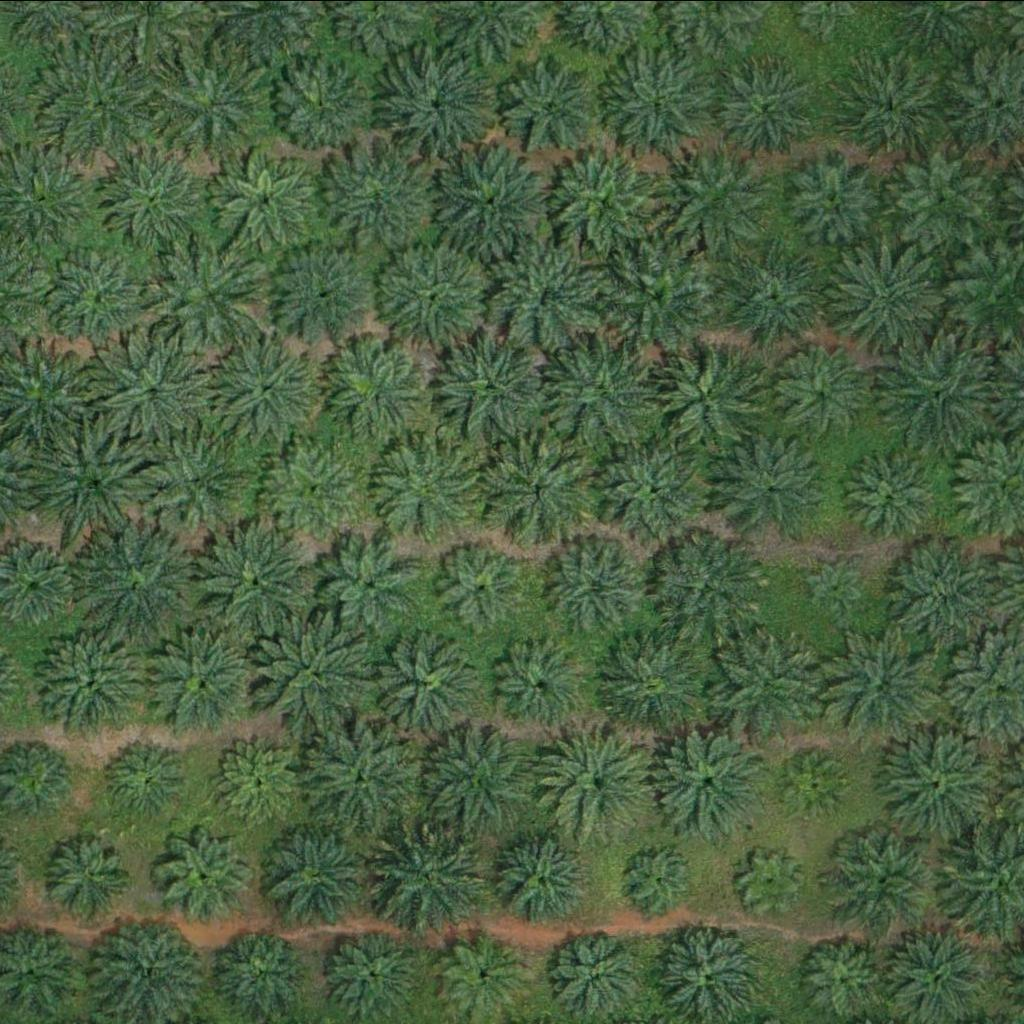Kelapa_Sawit: (261, 815, 375, 928), (374, 823, 488, 936), (876, 335, 990, 448), (720, 429, 834, 542), (483, 817, 596, 930), (545, 725, 658, 838), (34, 626, 147, 739), (150, 625, 263, 738), (83, 522, 196, 635), (201, 524, 314, 637), (373, 428, 486, 541), (482, 436, 595, 549), (45, 240, 158, 353), (152, 236, 265, 349), (266, 239, 379, 352), (320, 136, 433, 249), (430, 144, 543, 257), (605, 43, 718, 156), (551, 142, 664, 255), (550, 331, 663, 444), (649, 340, 762, 453), (601, 431, 714, 544), (822, 632, 935, 745), (656, 723, 769, 836), (882, 726, 995, 839), (306, 718, 420, 830), (418, 721, 532, 833), (486, 624, 600, 736), (92, 142, 206, 254), (44, 47, 158, 159), (152, 50, 266, 162), (655, 530, 769, 642), (598, 627, 712, 739), (256, 617, 369, 729), (369, 623, 482, 735), (41, 426, 154, 538), (143, 424, 256, 536), (102, 335, 215, 447), (213, 334, 326, 446), (437, 329, 550, 441), (380, 241, 493, 353), (492, 240, 605, 352), (373, 49, 486, 161), (662, 141, 775, 253), (602, 238, 715, 350), (714, 242, 827, 354), (826, 240, 939, 352), (887, 535, 1000, 647), (711, 624, 824, 736), (828, 823, 941, 935), (318, 536, 419, 636), (264, 440, 365, 540), (324, 340, 425, 440), (211, 150, 312, 250), (502, 55, 603, 155), (711, 57, 812, 157), (844, 60, 945, 160), (788, 147, 889, 247), (891, 147, 992, 247), (210, 923, 310, 1023), (324, 923, 424, 1023), (156, 826, 256, 926), (547, 533, 647, 633), (268, 54, 368, 154), (770, 343, 870, 443), (839, 445, 939, 545), (556, 930, 644, 1018), (47, 831, 135, 919), (101, 733, 189, 821), (215, 736, 303, 824), (796, 933, 884, 1021), (440, 931, 528, 1018), (437, 540, 525, 627), (783, 752, 846, 815), (629, 844, 692, 907), (740, 849, 803, 912), (803, 556, 866, 618)
